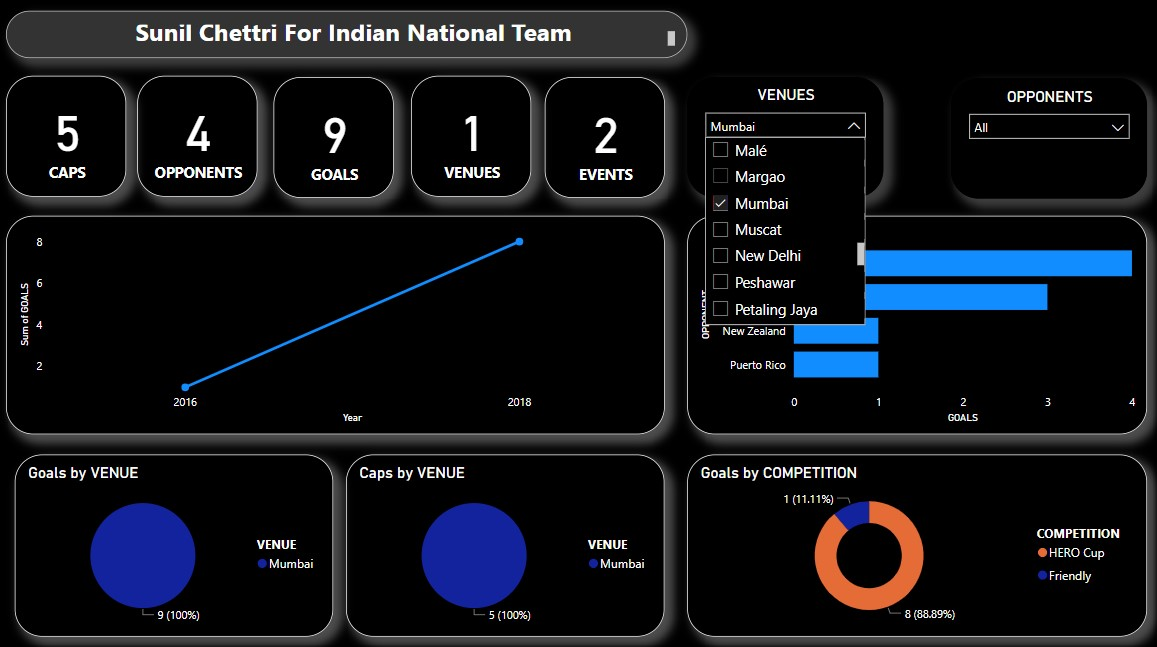

The dashboard page shown, as its layout file describes it:
{"tool":"powerbi","page":{"name":"Page 1","canvas":[1280,720],"ordinal":0},"visuals":[{"type":"card","fields":{"Values":["Goals - Sheet2 (1).GOALS"]},"box":[304.6,87.8,131.7,133.1],"z":0},{"type":"textbox","box":[11,15.1,747.9,52.1],"z":1000},{"type":"card","fields":{"Values":["Goals - Sheet2 (1).CAP"]},"box":[11,86.4,131.7,133.1],"z":2000},{"type":"card","fields":{"Values":["Goals - Sheet2 (1).OPPONENT"]},"box":[155.1,86.4,131.7,133.1],"z":3000},{"type":"card","fields":{"Values":["Goals - Sheet2 (1).VENUE"]},"box":[455.6,86.4,131.7,133.1],"z":4000},{"type":"card","fields":{"Values":["Goals - Sheet2 (1).COMPETITION"]},"box":[602.4,87.8,131.7,133.1],"z":5000},{"type":"lineChart","fields":{"Category":["Goals - Sheet2 (1).DATE.Variation.Date Hierarchy.Year"],"Y":["Goals - Sheet2 (1).GOALS"]},"box":[11,240.1,723.2,240.1],"z":6000},{"type":"slicer","title":"VENUES","fields":{"Values":["Goals - Sheet2 (1).VENUE"]},"box":[758.8,87.8,215.4,131.7],"z":7000},{"type":"slicer","title":"OPPONENTS","fields":{"Values":["Goals - Sheet2 (1).OPPONENT"]},"box":[1048.4,89.2,215.4,131.7],"z":8000},{"type":"barChart","fields":{"Y":["Goals - Sheet2 (1).GOALS"],"Category":["Goals - Sheet2 (1).OPPONENT"]},"box":[758.8,240.1,505,240.1],"z":9000},{"type":"donutChart","fields":{"Y":["Goals - Sheet2 (1).GOALS"],"Category":["Goals - Sheet2 (1).COMPETITION"]},"box":[758.8,502.2,505,200.3],"z":10000},{"type":"pieChart","fields":{"Y":["Goals - Sheet2 (1).GOALS"],"Category":["Goals - Sheet2 (1).VENUE"]},"box":[20.6,502.2,349.9,200.3],"z":11000},{"type":"pieChart","fields":{"Y":["Goals - Sheet2 (1).CAP"],"Category":["Goals - Sheet2 (1).VENUE"]},"box":[384.2,502.2,349.9,200.3],"z":11001}]}

Visuals, with their boxes in screenshot pixels (x1, y1, x2, y2), scaled from the page's 1280x720 canvas onto the 1157x647 screenshot:
card - Goals - Sheet2 (1).GOALS: {"left": 275, "top": 79, "right": 394, "bottom": 199}
textbox: {"left": 10, "top": 14, "right": 686, "bottom": 60}
card - Goals - Sheet2 (1).CAP: {"left": 10, "top": 78, "right": 129, "bottom": 197}
card - Goals - Sheet2 (1).OPPONENT: {"left": 140, "top": 78, "right": 259, "bottom": 197}
card - Goals - Sheet2 (1).VENUE: {"left": 412, "top": 78, "right": 531, "bottom": 197}
card - Goals - Sheet2 (1).COMPETITION: {"left": 545, "top": 79, "right": 664, "bottom": 199}
lineChart - Goals - Sheet2 (1).DATE.Variation.Date Hierarchy.Year x Goals - Sheet2 (1).GOALS: {"left": 10, "top": 216, "right": 664, "bottom": 432}
"VENUES" slicer: {"left": 686, "top": 79, "right": 881, "bottom": 197}
"OPPONENTS" slicer: {"left": 948, "top": 80, "right": 1142, "bottom": 199}
barChart - Goals - Sheet2 (1).GOALS x Goals - Sheet2 (1).OPPONENT: {"left": 686, "top": 216, "right": 1142, "bottom": 432}
donutChart - Goals - Sheet2 (1).GOALS x Goals - Sheet2 (1).COMPETITION: {"left": 686, "top": 451, "right": 1142, "bottom": 631}
pieChart - Goals - Sheet2 (1).GOALS x Goals - Sheet2 (1).VENUE: {"left": 19, "top": 451, "right": 335, "bottom": 631}
pieChart - Goals - Sheet2 (1).CAP x Goals - Sheet2 (1).VENUE: {"left": 347, "top": 451, "right": 664, "bottom": 631}
